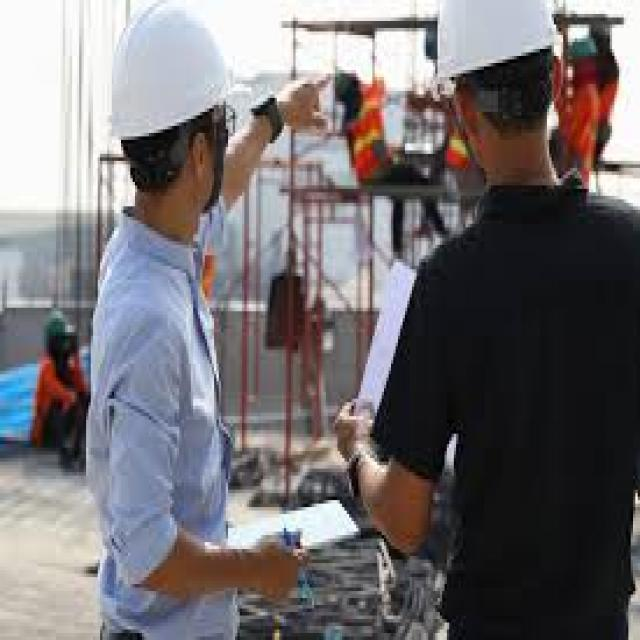Reflective-Jacket: (340, 84, 393, 192)
Safety-Helmet: (100, 3, 235, 147), (428, 0, 563, 91)
